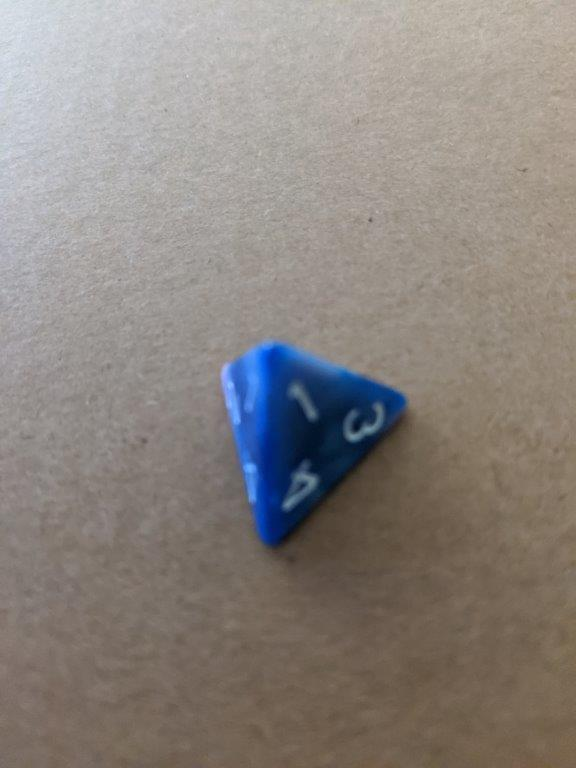d4-1: (216, 340, 414, 552)
